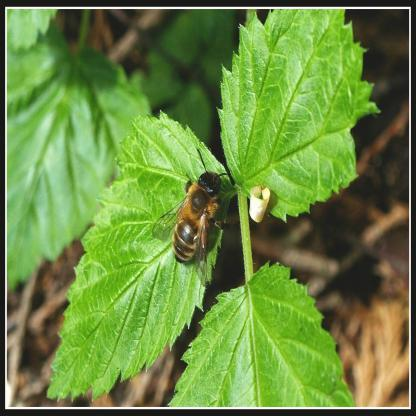Raspberry leaf: (45, 97, 234, 397), (220, 0, 386, 216), (164, 255, 349, 416)
